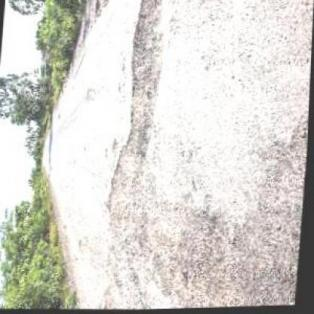Hueco: (126, 0, 169, 132), (105, 142, 153, 223)
